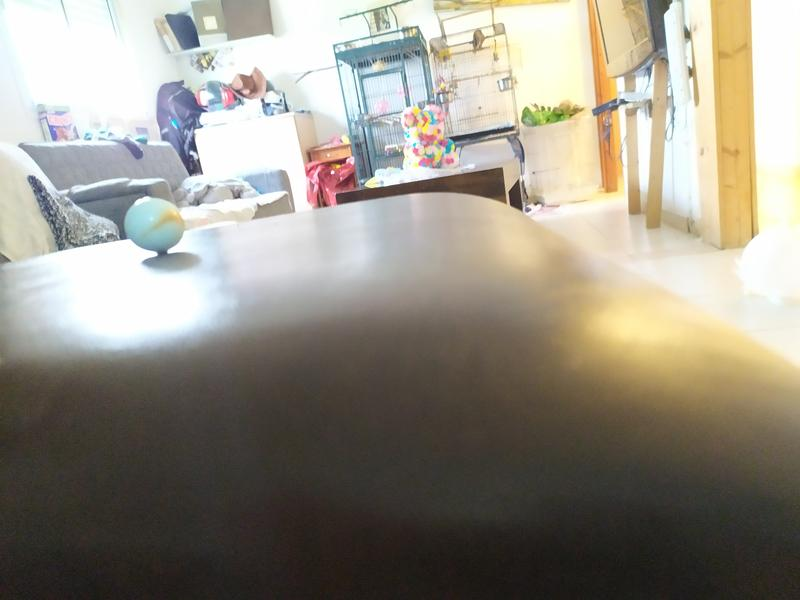Warning: (121, 195, 188, 256)
